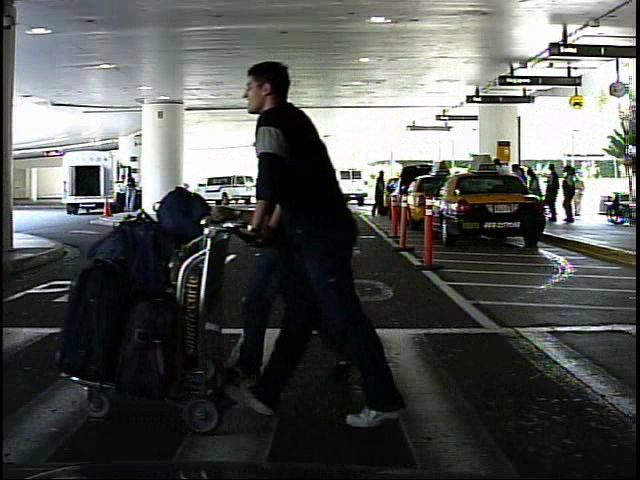person: (233, 50, 413, 429), (373, 166, 391, 222), (574, 172, 594, 218), (112, 170, 130, 219)
